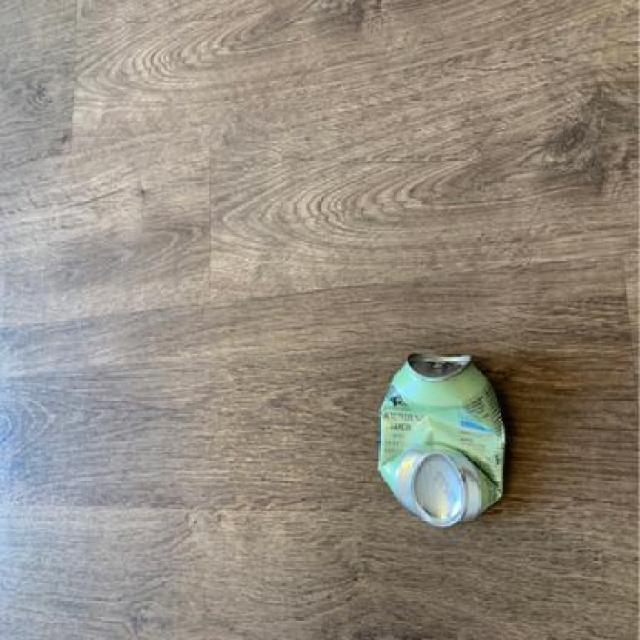Metal: (378, 350, 507, 529)
